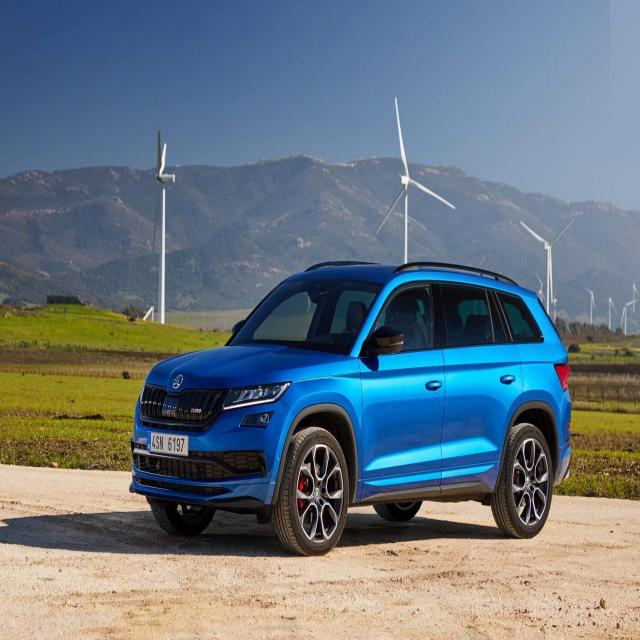yolov7-seg-car: (129, 261, 572, 557)
